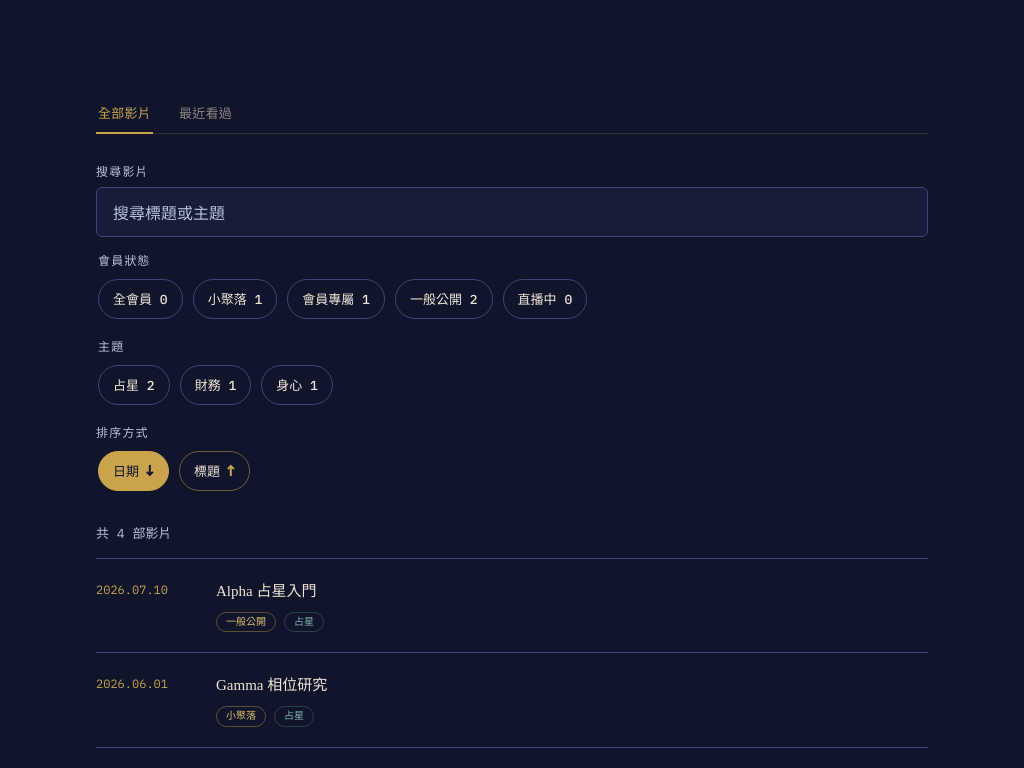
App › the empty state lists the active filters and clears them all
(page scrolled)
// A topic plus a search term that never overlap: filters combine with AND.
Click the button "財務 1".
click(215, 385)  # box [180,365,251,405]
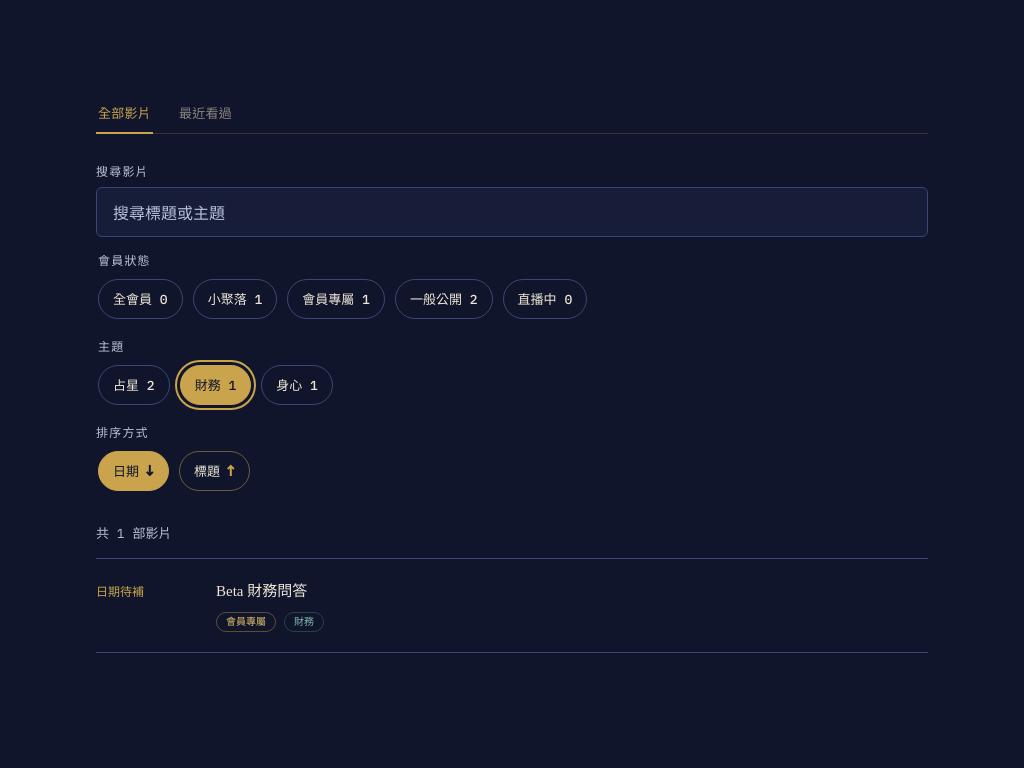
Type "占星" into the search field labelled "搜尋影片".
click(512, 212); type("占星")  # box [96,187,928,237]
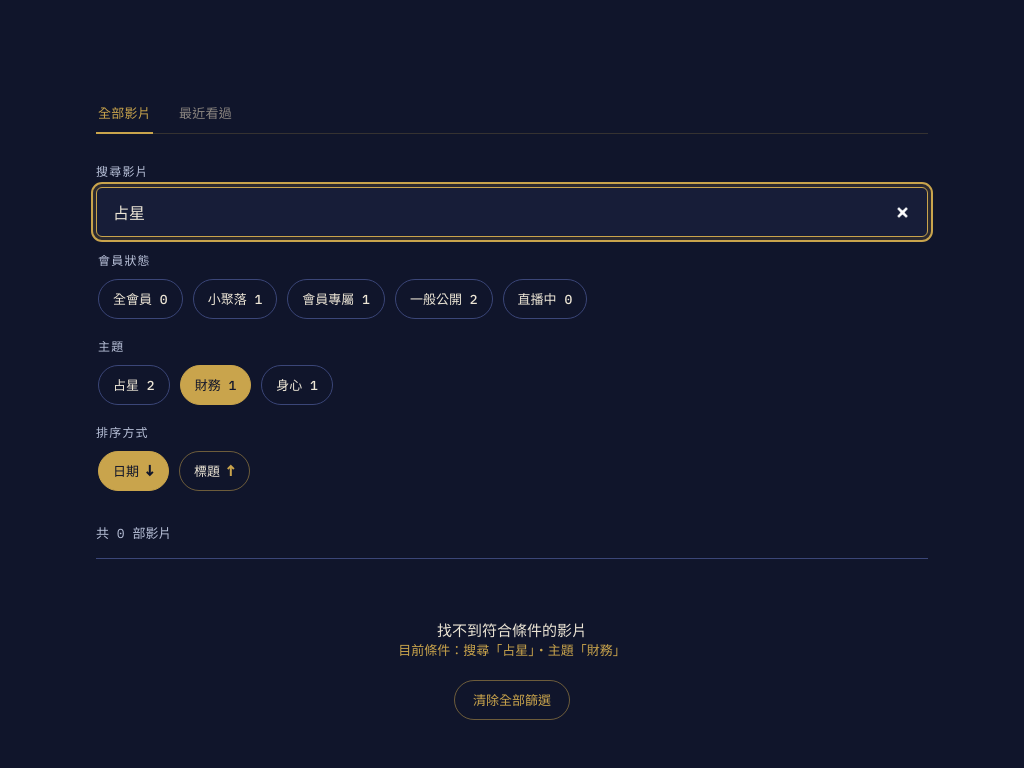
expect the text "共 0 部影片" is shown: met, box [96,523,928,559]
expect the text "目前條件：搜尋「占星」・主題「財務」" is shown: met, box [398,642,626,659]
Click the button "清除全部篩選".
click(512, 700)  # box [454,680,570,720]
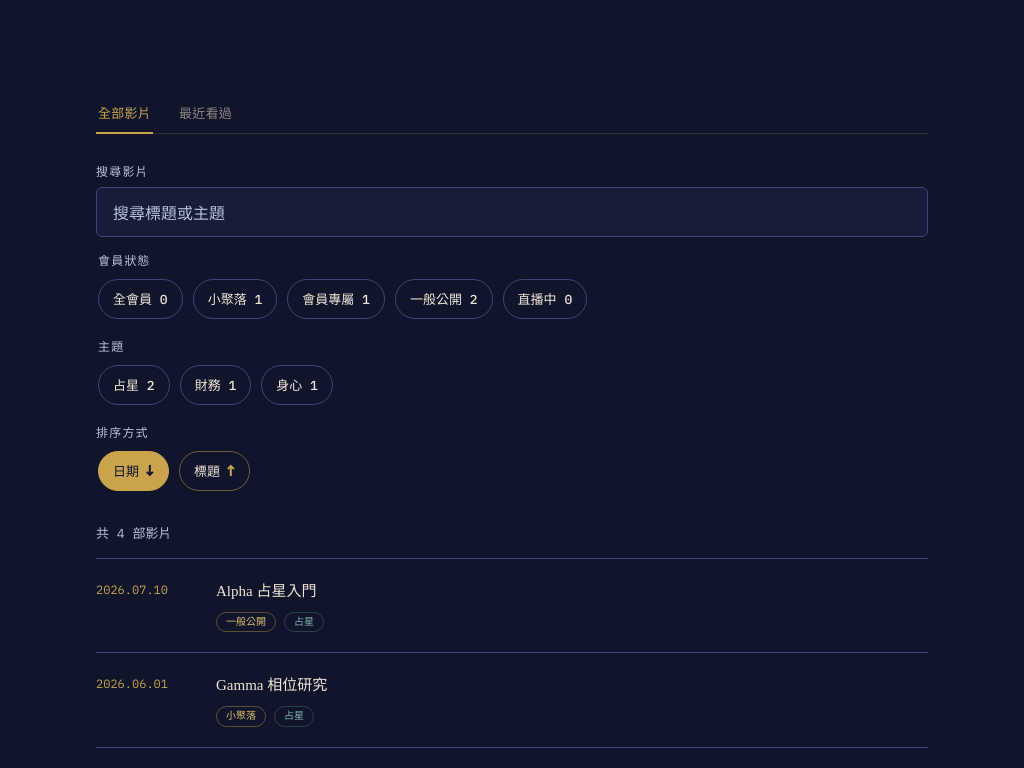
expect the text "共 4 部影片" is shown: met, box [96,523,928,559]
expect the search field labelled "搜尋影片" is empty: met, box [96,187,928,237]
